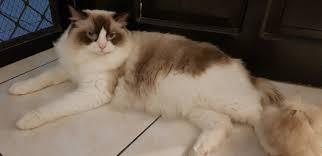ragdoll: (68, 5, 131, 58)
